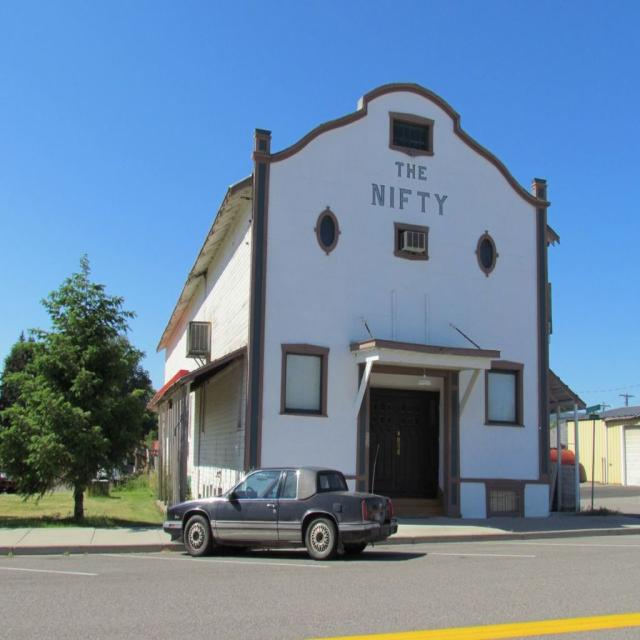car: (166, 462, 397, 566)
